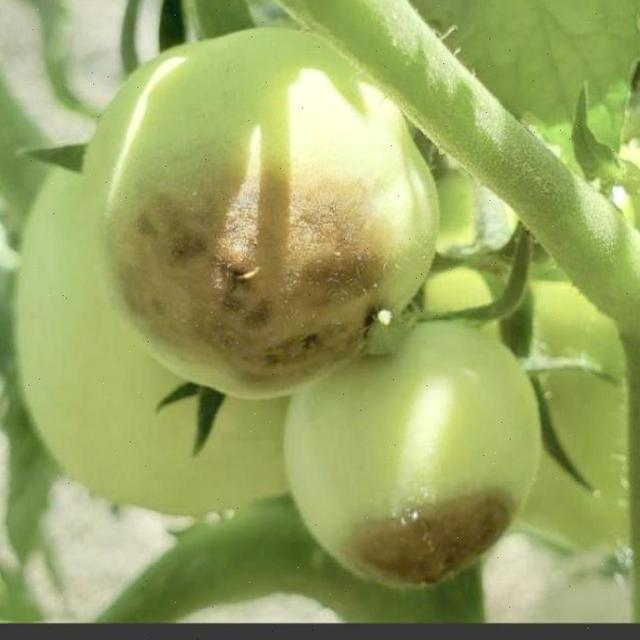Blossom End Rot Fruit: (115, 65, 282, 355)
